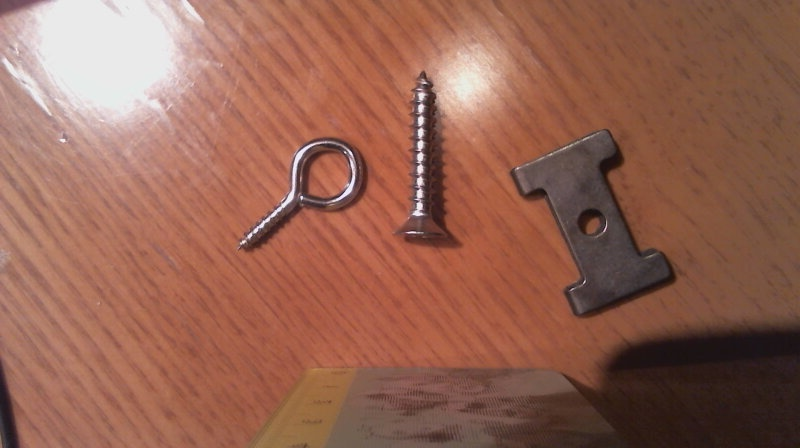O001: (235, 133, 370, 256)
O002: (508, 125, 677, 317)
S001: (389, 69, 450, 244)
